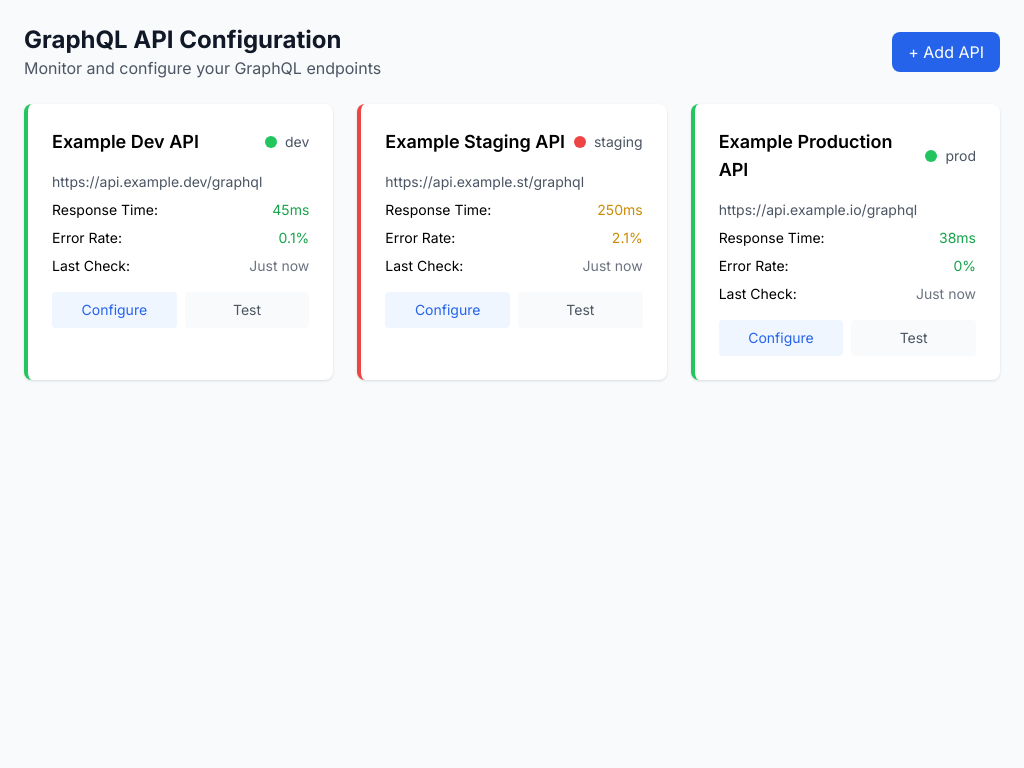
Test: ApiConfigurationAdmin › should open configuration modal on Configure button click
Step 1. Click the button with test id "configure-api-example-dev" → click(114, 310), box x1=52 y1=292 x2=177 y2=328
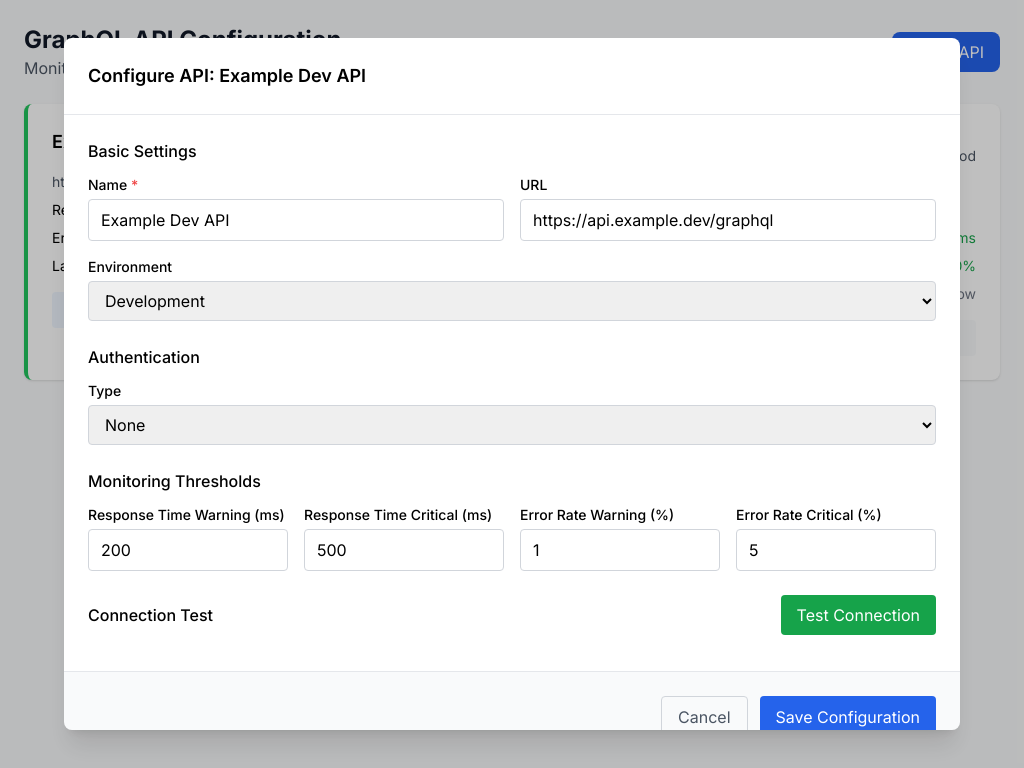
Expected: the element with test id "api-config-modal" is shown
